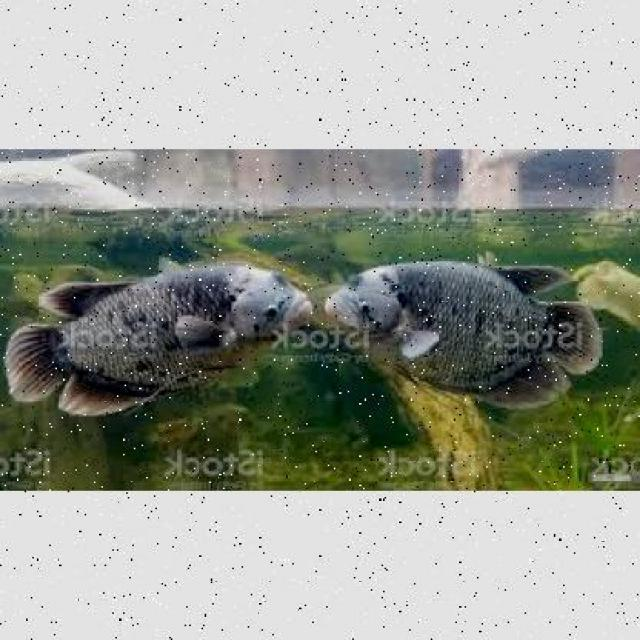gurame: (8, 262, 310, 416), (325, 256, 601, 402)
